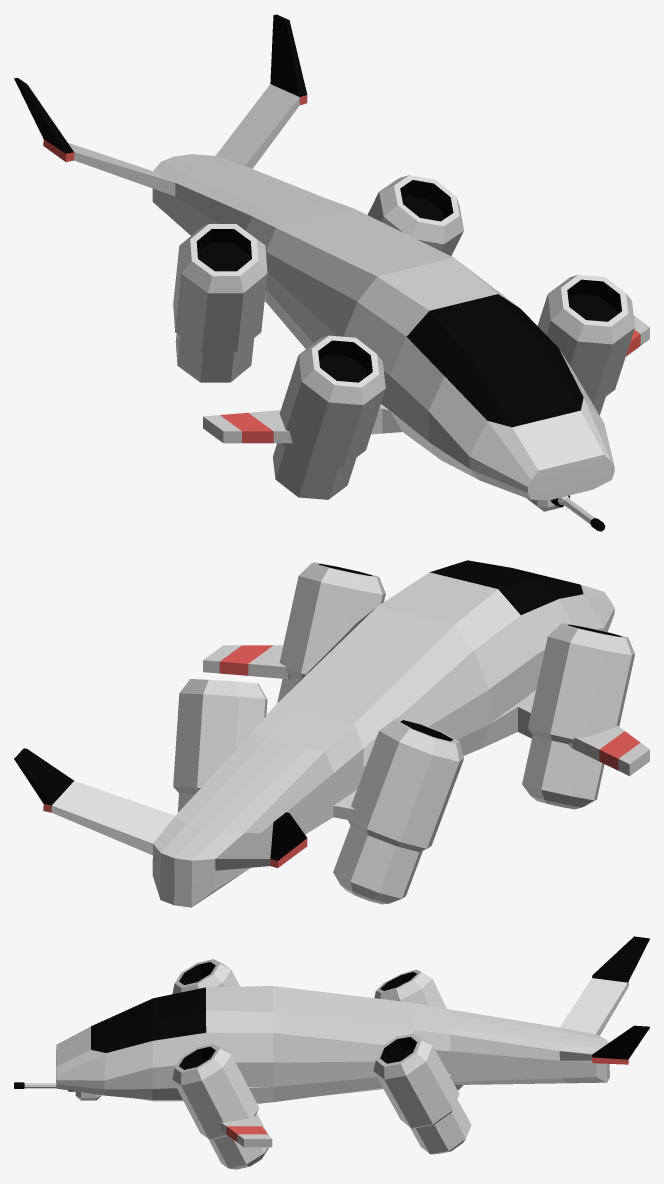
The model's file is gunship.fbx.
The picture shows the model from 3 angles, top to bottom: view 1: azimuth 30°, elevation 25°; view 2: azimuth 150°, elevation 25°; view 3: azimuth 270°, elevation 25°; orthographic projection. The views are drawn at different scales.
Parts seen in each view (by area): view 1: Cube, Cube.001; view 2: Cube; view 3: Cube, Cube.001.
Boxes of the visible parts, x1,y1,x2,y2 form: Cube: [14, 14, 649, 500]; Cube.001: [526, 495, 605, 531]; Cube: [14, 560, 649, 907]; Cube: [56, 936, 649, 1169]; Cube.001: [14, 1082, 101, 1100].
Size of the model in its own units: 632 by 288 by 1170.
